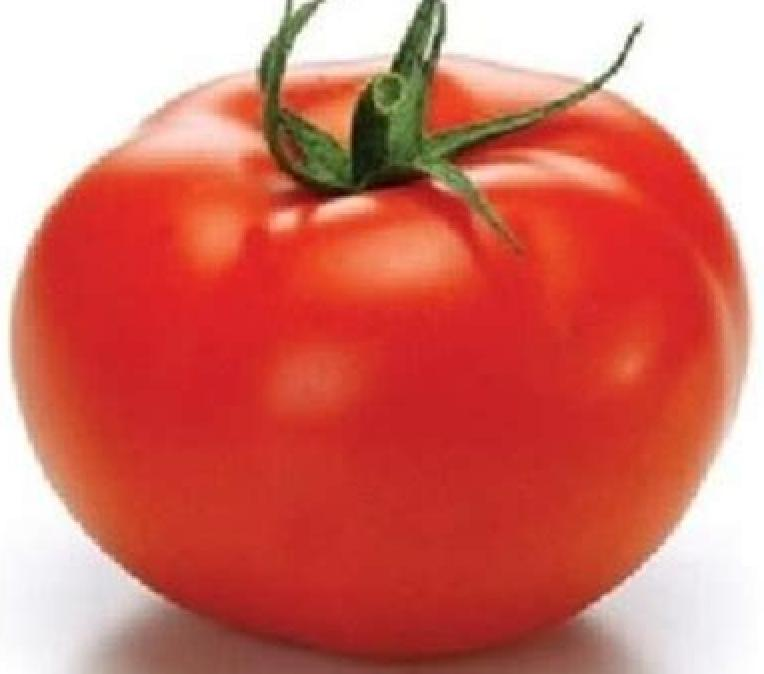tomato: (20, 65, 730, 662)
